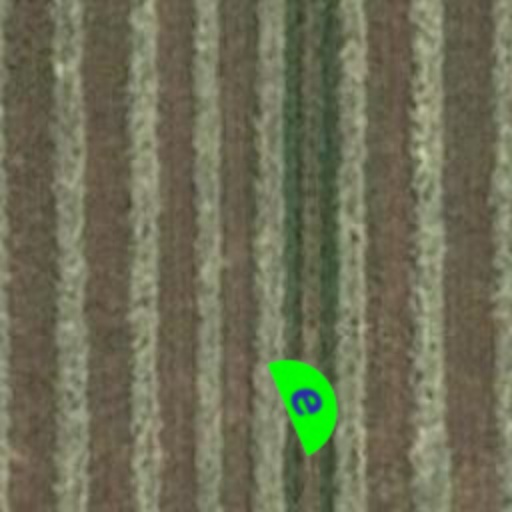semicircle: (242, 332, 378, 468)
